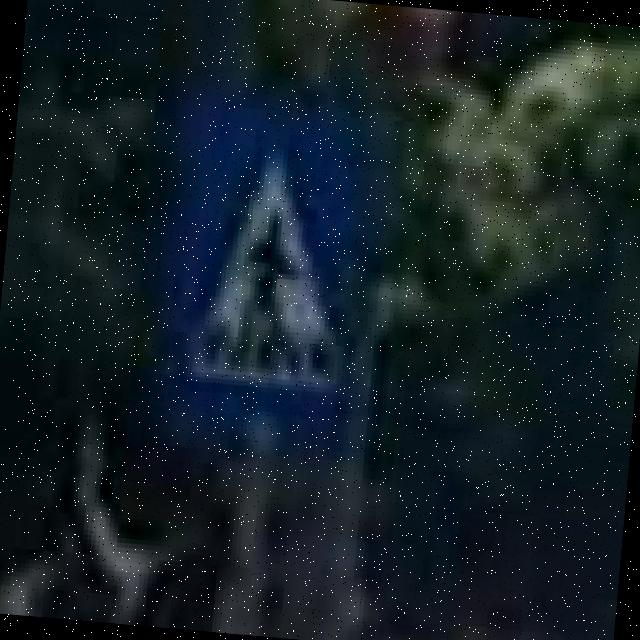Przejscie dla pieszych: (150, 107, 388, 463)
